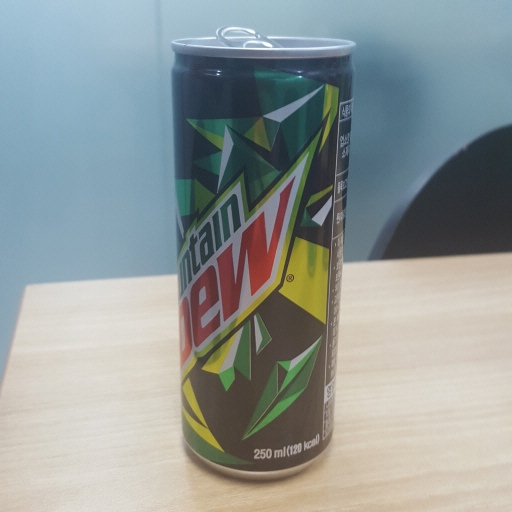Metal_0: (169, 24, 358, 481)
